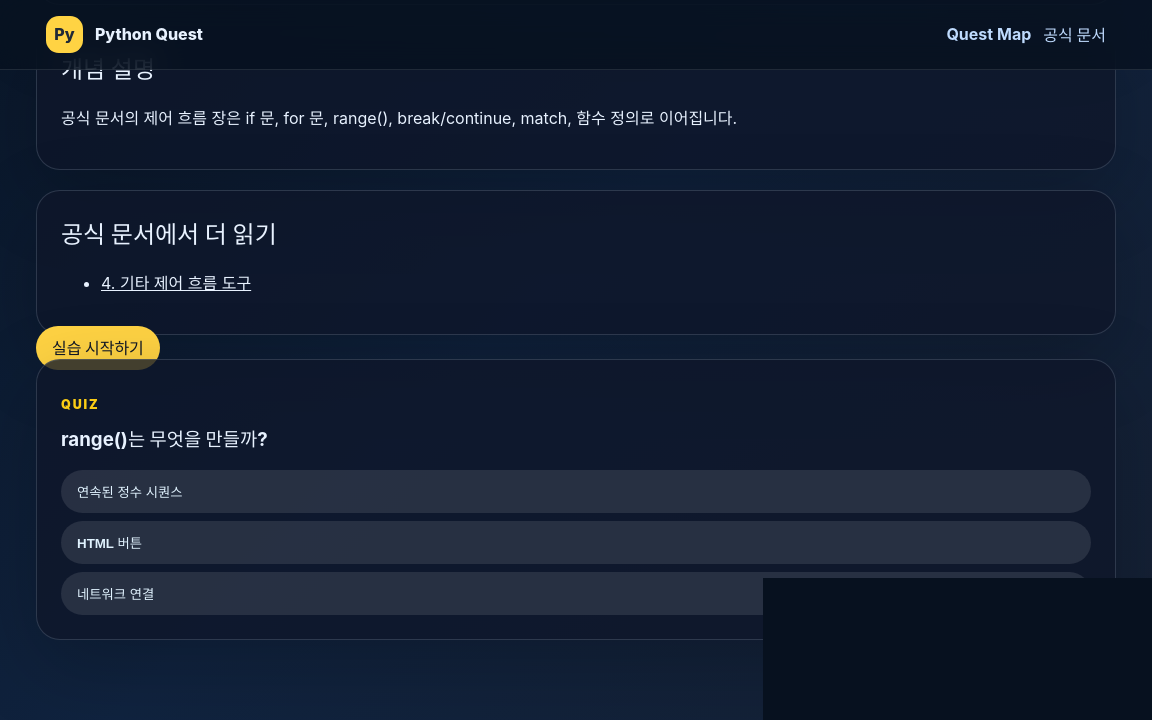
Test case: Python Quest MVP › checks a quiz answer and persists quiz progress
The width and height of the screenshot is (1152, 720).
(page scrolled)
Click the button "연속된 정수 시퀀스": [130, 492] box x1=61 y1=470 x2=1091 y2=513
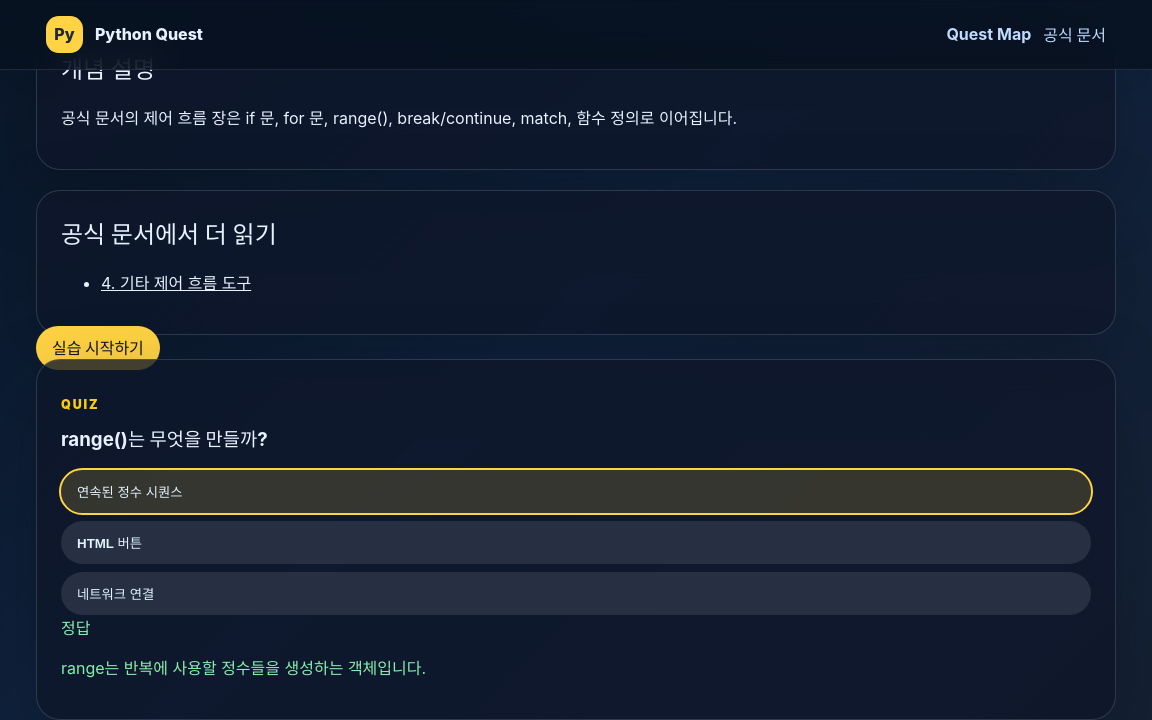
Check: the text "정답" is shown, box x1=61 y1=618 x2=90 y2=638
Check: the text "range는 반복에 사용할 정수들을 생성하는 객체입니다." is shown, box x1=61 y1=658 x2=426 y2=678
